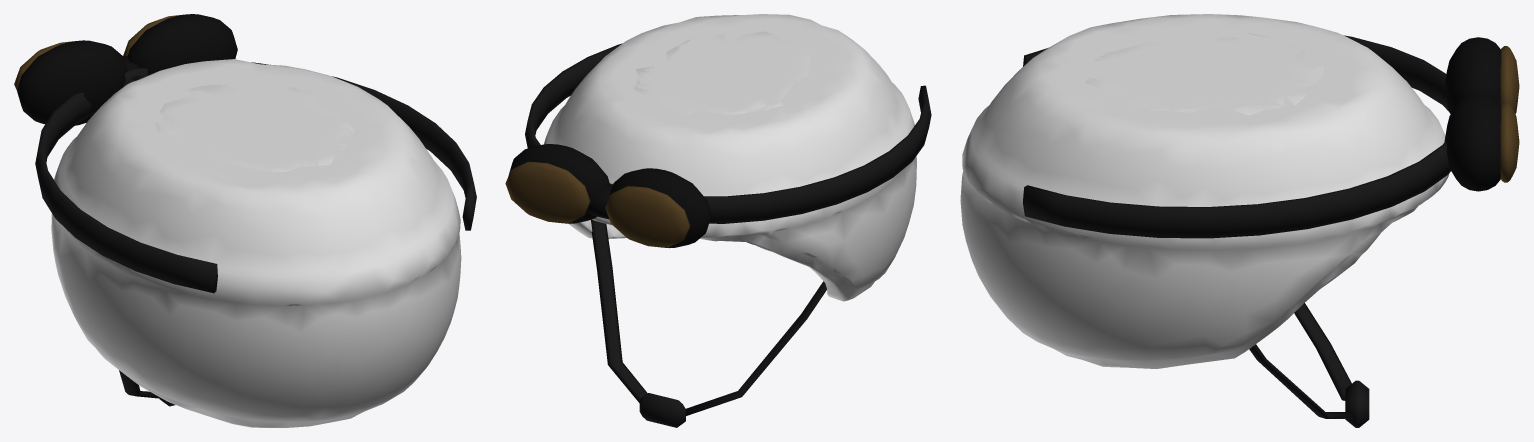
Rendered from ru_helmet.glb.
3 views of the same model, side by side, from view 1: azimuth 30°, elevation 25°; view 2: azimuth 150°, elevation 25°; view 3: azimuth 270°, elevation 25° (orthographic). The views are drawn at different scales.
Visible parts, largest first — view 1: ru_helmet_LOD0; view 2: ru_helmet_LOD0; view 3: ru_helmet_LOD0.
Part boxes in pixels (<box>): ru_helmet_LOD0: <box>14,14,476,427</box>; ru_helmet_LOD0: <box>505,14,931,427</box>; ru_helmet_LOD0: <box>960,14,1519,427</box>.
Size of what is drawn, in the model's own units: 0.2798 by 0.2405 by 0.3525.
